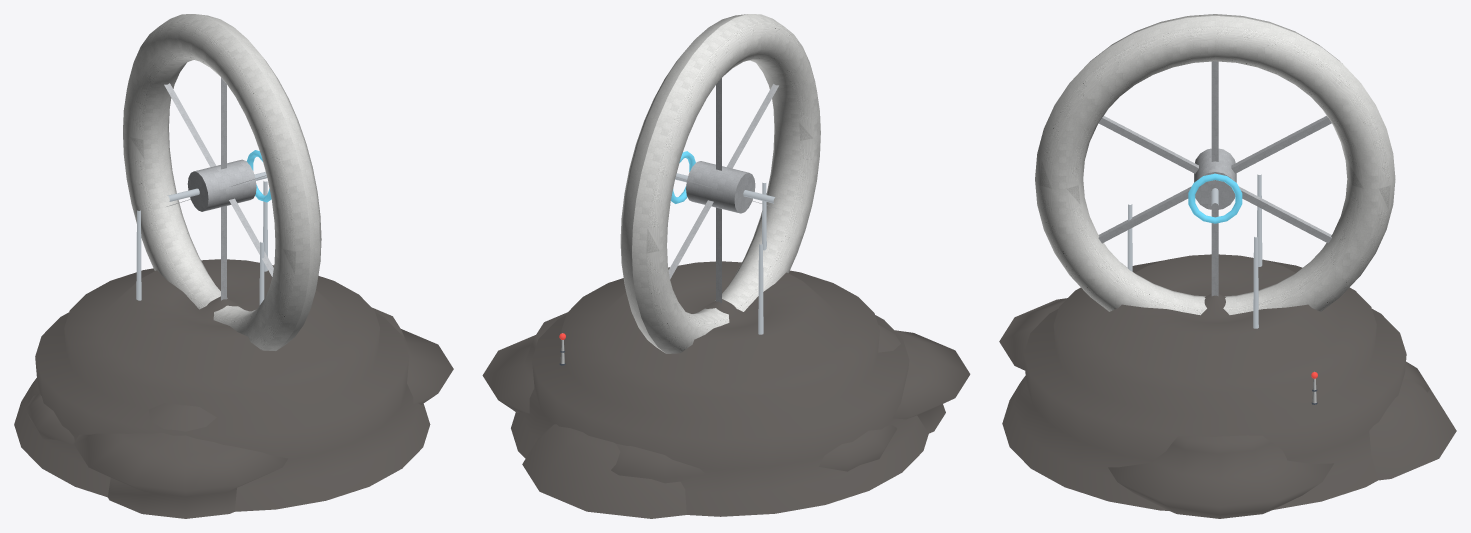
File: asteroid_rotating_town.glb
3 views of the same model, side by side, from view 1: azimuth 30°, elevation 25°; view 2: azimuth 150°, elevation 25°; view 3: azimuth 270°, elevation 25° (orthographic). The views are drawn at different scales.
Visible parts, largest first — view 1: asteroid_rotating_town_LOD0; view 2: asteroid_rotating_town_LOD0; view 3: asteroid_rotating_town_LOD0.
Boxes of the visible parts, x1,y1,x2,y2 form: asteroid_rotating_town_LOD0: [14, 14, 453, 518]; asteroid_rotating_town_LOD0: [482, 14, 970, 518]; asteroid_rotating_town_LOD0: [999, 14, 1456, 518].
Size of what is drawn, in the model's own units: 66.85 by 63.4 by 64.48.
3 materials, 3 textured.
